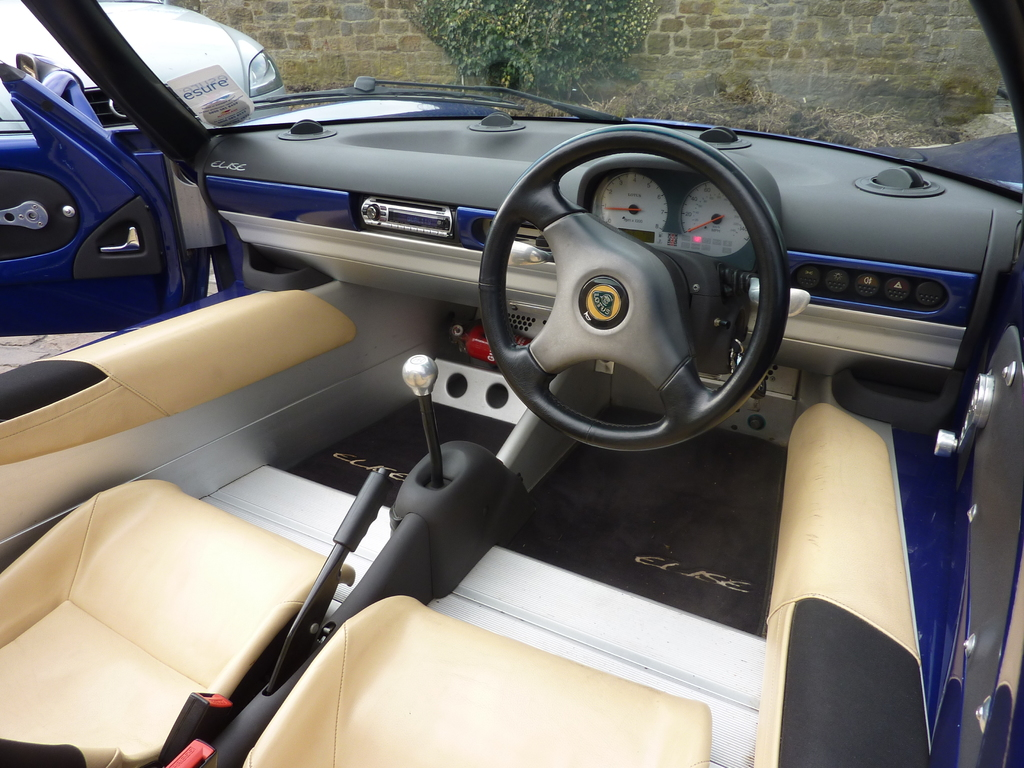Car: (0, 0, 1023, 767), (0, 1, 284, 147)
